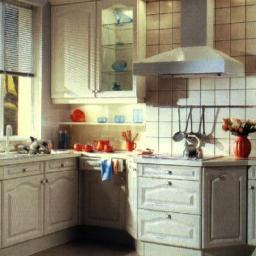Lavaplatos: (3, 125, 31, 164)
